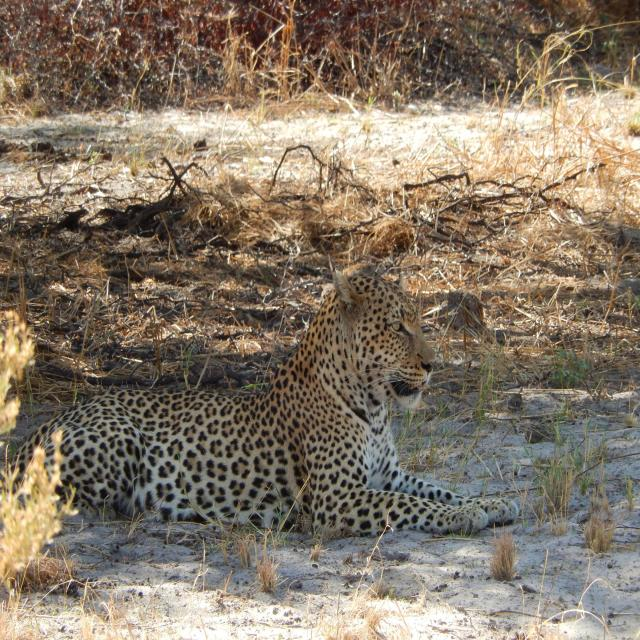Leopard: (0, 275, 523, 553)
